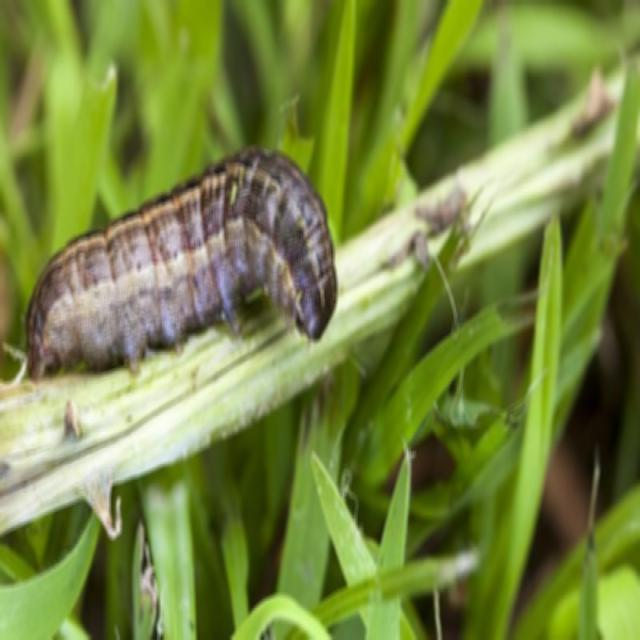army worm: (24, 133, 348, 402)
